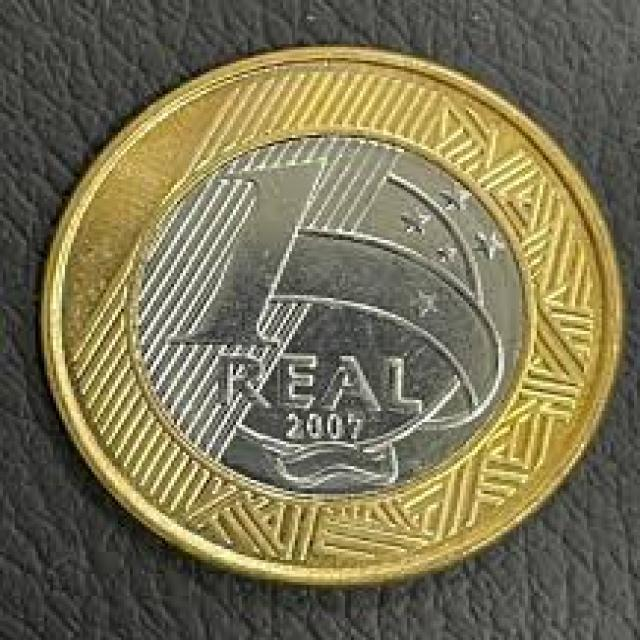1 real: (52, 51, 608, 581)
